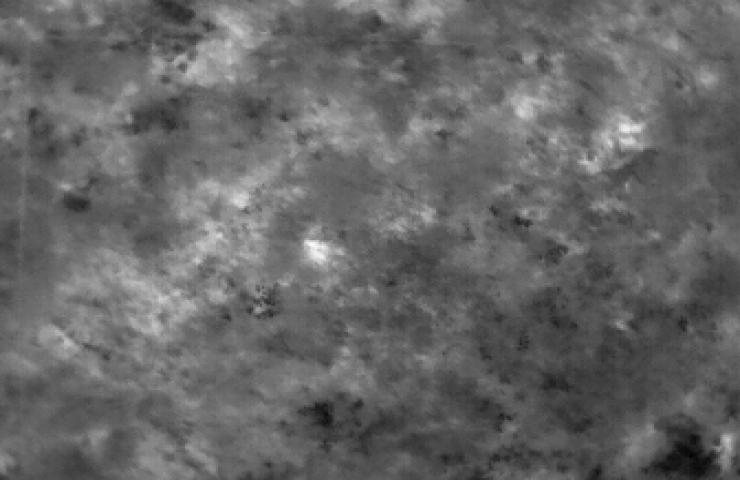landmines: (303, 237, 335, 265)
